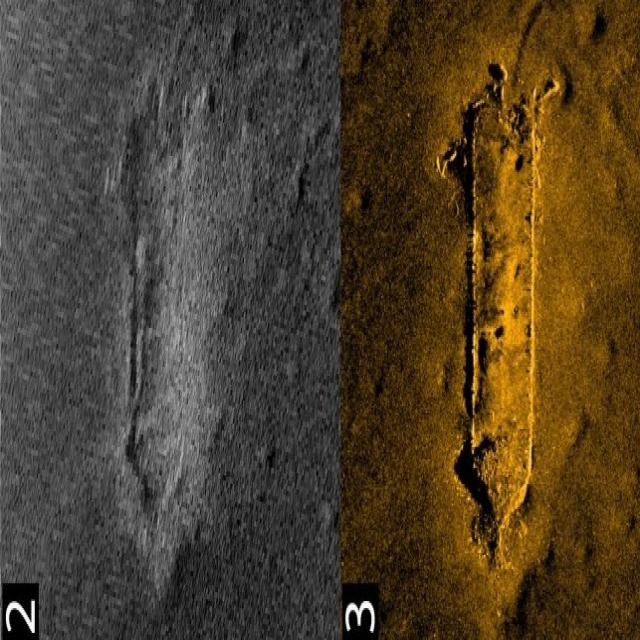ship: (461, 63, 536, 550), (128, 85, 204, 509)
